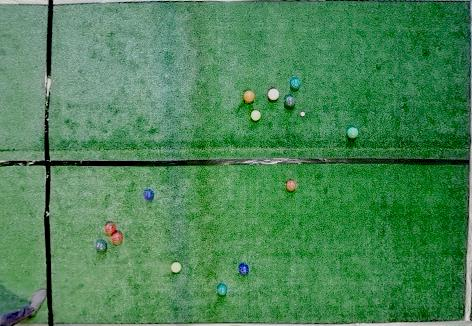blue: (143, 189, 154, 202), (238, 263, 249, 276)
green: (346, 126, 358, 139), (284, 95, 296, 108), (290, 77, 301, 91), (216, 283, 227, 296), (96, 240, 107, 253)
red: (267, 88, 280, 101), (243, 90, 255, 103), (104, 223, 117, 235), (111, 231, 123, 244), (286, 180, 296, 192)
vline: (1, 1, 56, 325), (461, 1, 471, 325)
white: (300, 112, 305, 116)
yellow: (170, 262, 182, 273), (250, 110, 261, 121)
